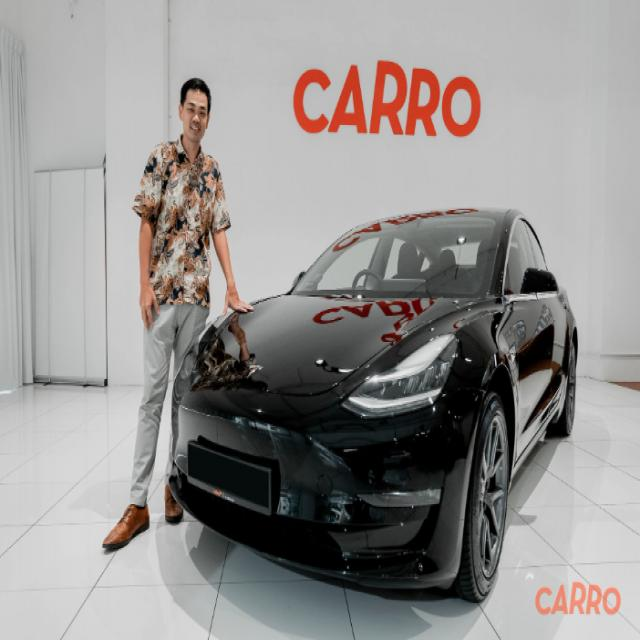car: (172, 195, 594, 628)
